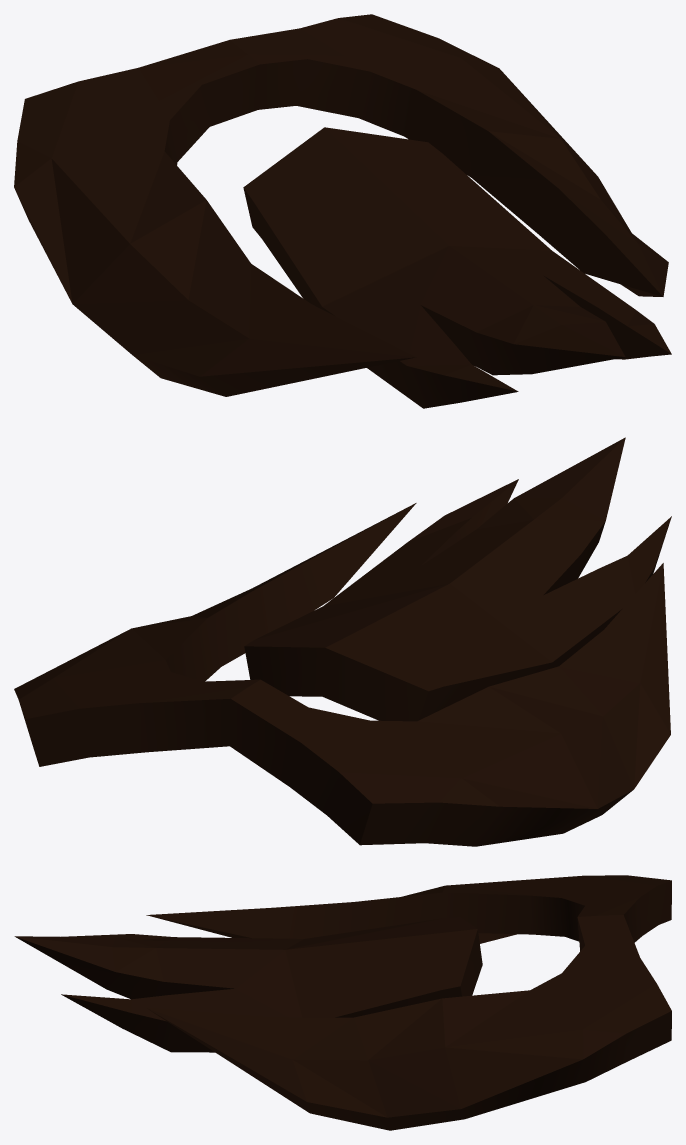
The model's file is Beard 08.FBX.
The picture shows the model from 3 angles, top to bottom: view 1: azimuth 30°, elevation 25°; view 2: azimuth 150°, elevation 25°; view 3: azimuth 270°, elevation 25°; orthographic projection. The views are drawn at different scales.
Parts seen in each view (by area): view 1: Beard 08; view 2: Beard 08; view 3: Beard 08.
Boxes of the visible parts, box(x1,y1,x2,y2) form: Beard 08: box(14, 14, 671, 408); Beard 08: box(14, 437, 671, 846); Beard 08: box(14, 875, 671, 1130).
Bounding box in the file's own units: 15.46 × 21.78 × 4.88.
